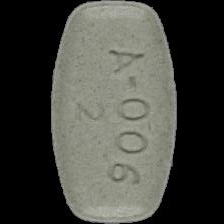68151-5121: (0, 0, 224, 224)
